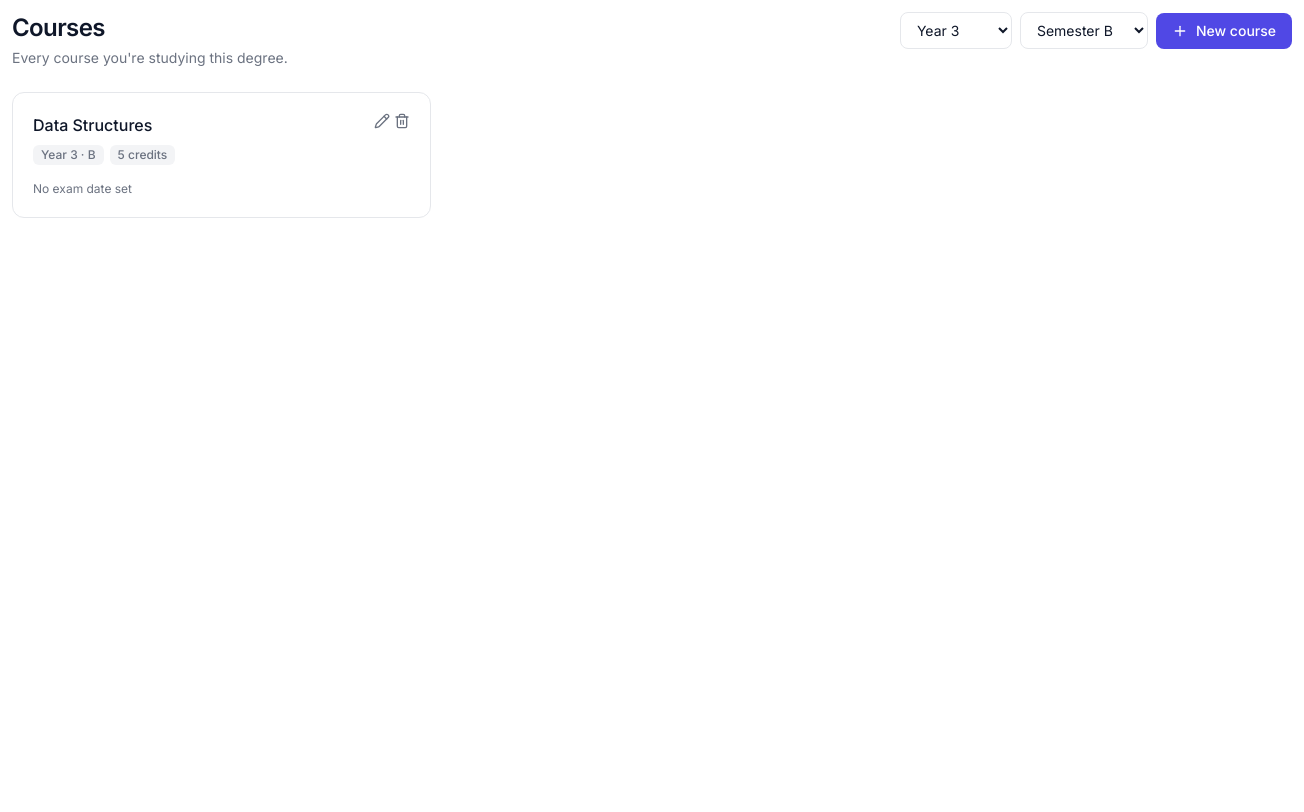
Test: CoursesPage › New course defaults to the currently selected year and semester
The image size is (1304, 812).
Expected: the dropdown named "Filter by year" is shown, [900,12,1012,49]
Click the button "New course" at (1224, 30), box [1156,12,1292,48]
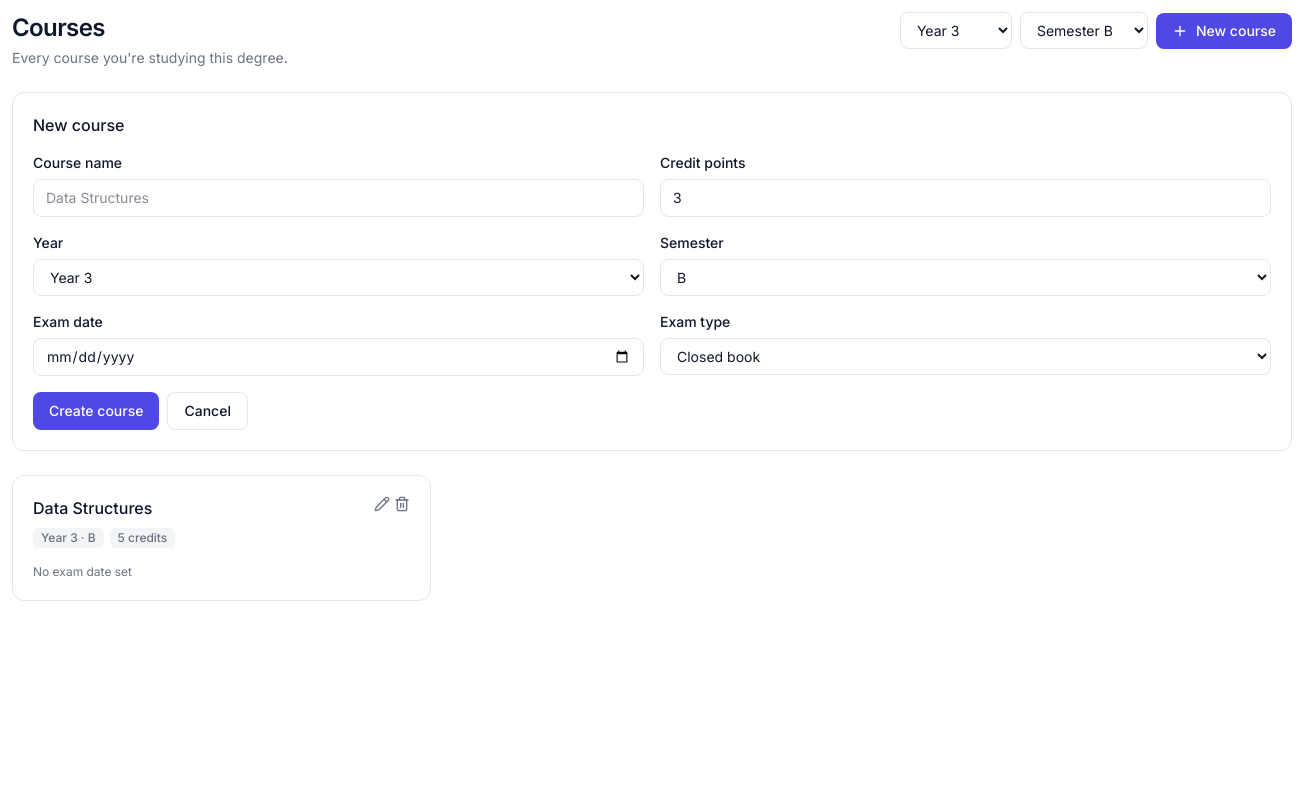
Now the heading "New course" is shown, box [33,115,124,135]
Now the dropdown labelled "Year" shows "Year 3", box [33,259,644,296]
Now the dropdown labelled "Semester" shows "B", box [660,259,1271,296]
